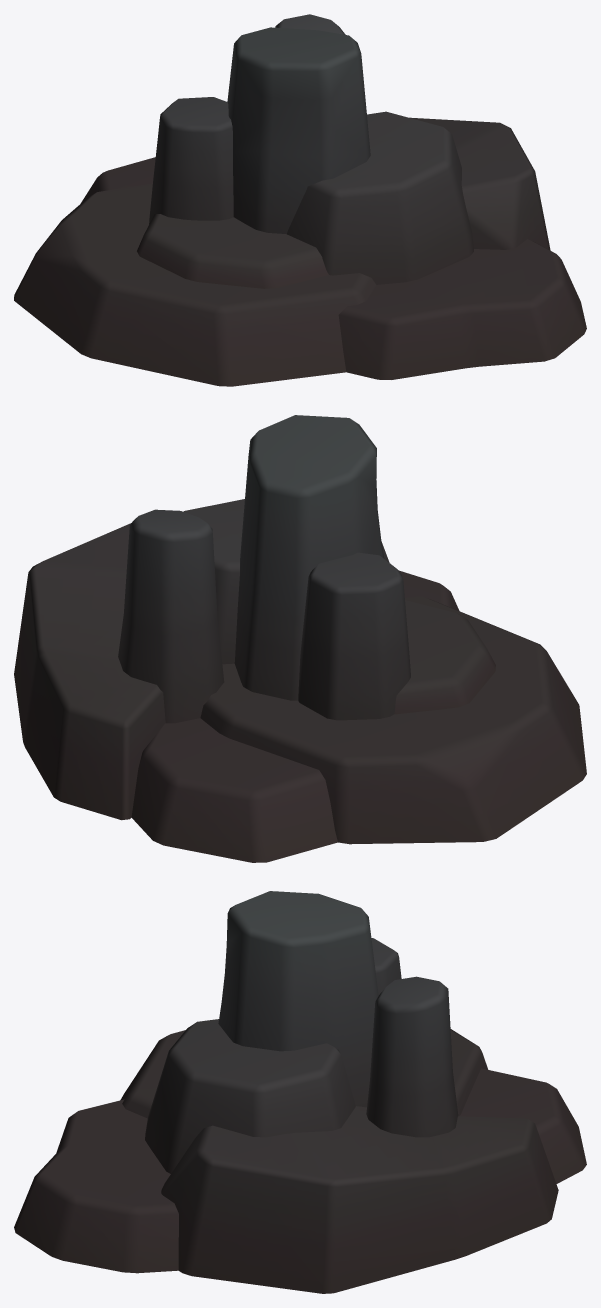
The model's file is inferno-rock-mid-001.glb.
3 renders of one model, top to bottom at view 1: azimuth 30°, elevation 25°; view 2: azimuth 150°, elevation 25°; view 3: azimuth 270°, elevation 25°, orthographic. The views are drawn at different scales.
Parts seen in each view (by area): view 1: RockMid_001; view 2: RockMid_001; view 3: RockMid_001.
Boxes of the visible parts, x1,y1,x2,y2 form: RockMid_001: [14, 14, 586, 386]; RockMid_001: [14, 415, 586, 862]; RockMid_001: [14, 891, 586, 1293].
Size of the model in its own units: 12.58 by 6.4 by 12.68.
Materials: 1 (1 with a texture image).
